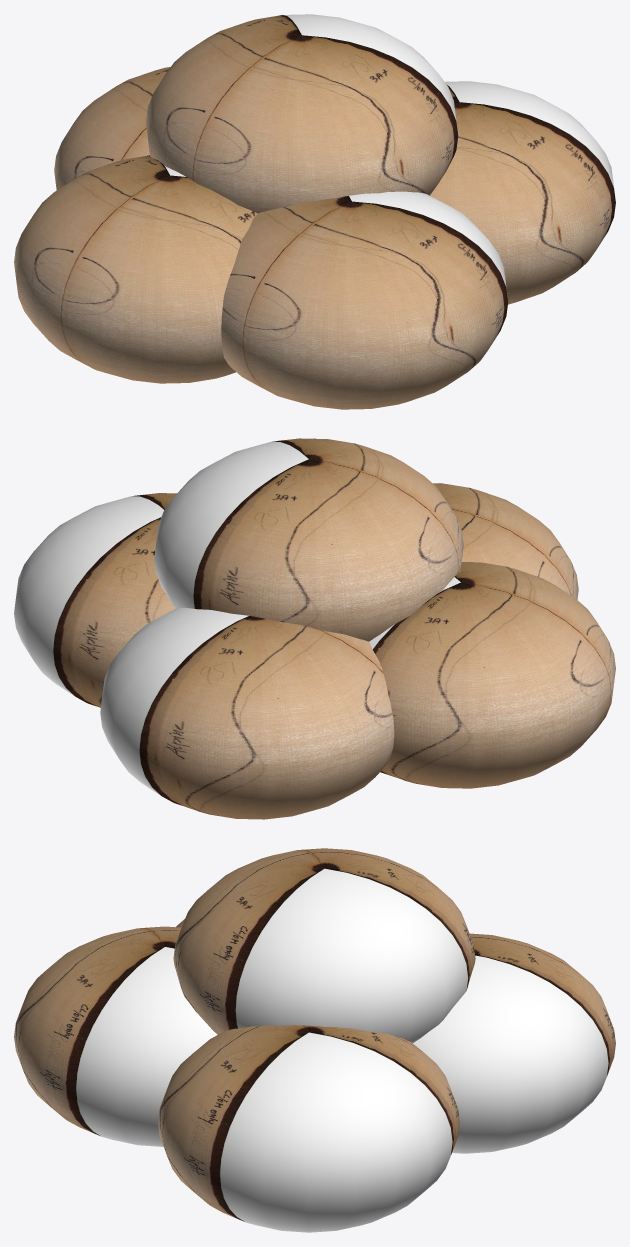
The model's file is bush.fbx.
3 renders of one model, top to bottom at view 1: azimuth 30°, elevation 25°; view 2: azimuth 150°, elevation 25°; view 3: azimuth 270°, elevation 25°, orthographic. The views are drawn at different scales.
Parts seen in each view (by area): view 1: pSphere4, pSphere8, pSphere7, pSphere5, pSphere6; view 2: pSphere6, pSphere8, pSphere7, pSphere5, pSphere4; view 3: pSphere5, pSphere8, pSphere4, pSphere6.
Part boxes in pixels (x1=…): pSphere4: x1=221, y1=191, x2=508, y2=409; pSphere8: x1=146, y1=14, x2=458, y2=213; pSphere7: x1=14, y1=155, x2=257, y2=383; pSphere5: x1=430, y1=81, x2=615, y2=304; pSphere6: x1=54, y1=67, x2=170, y2=189; pSphere6: x1=100, y1=607, x2=394, y2=819; pSphere8: x1=154, y1=438, x2=463, y2=641; pSphere7: x1=369, y1=562, x2=615, y2=788; pSphere5: x1=14, y1=493, x2=176, y2=707; pSphere4: x1=433, y1=483, x2=578, y2=599; pSphere5: x1=158, y1=1025, x2=459, y2=1232; pSphere8: x1=173, y1=848, x2=475, y2=1042; pSphere4: x1=14, y1=926, x2=217, y2=1146; pSphere6: x1=413, y1=933, x2=615, y2=1153.
Size of the model in its own units: 10.46 by 5.04 by 10.06.
Materials: 1 (1 with a texture image).
